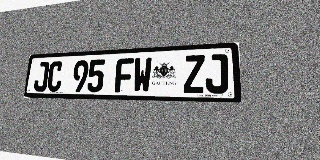5: (87, 59, 105, 92)
9: (71, 60, 89, 92)
C: (46, 61, 63, 92)
F: (115, 58, 134, 92)
J: (205, 54, 228, 93), (33, 62, 50, 92)
W: (132, 57, 152, 93)
Z: (183, 55, 205, 93)
